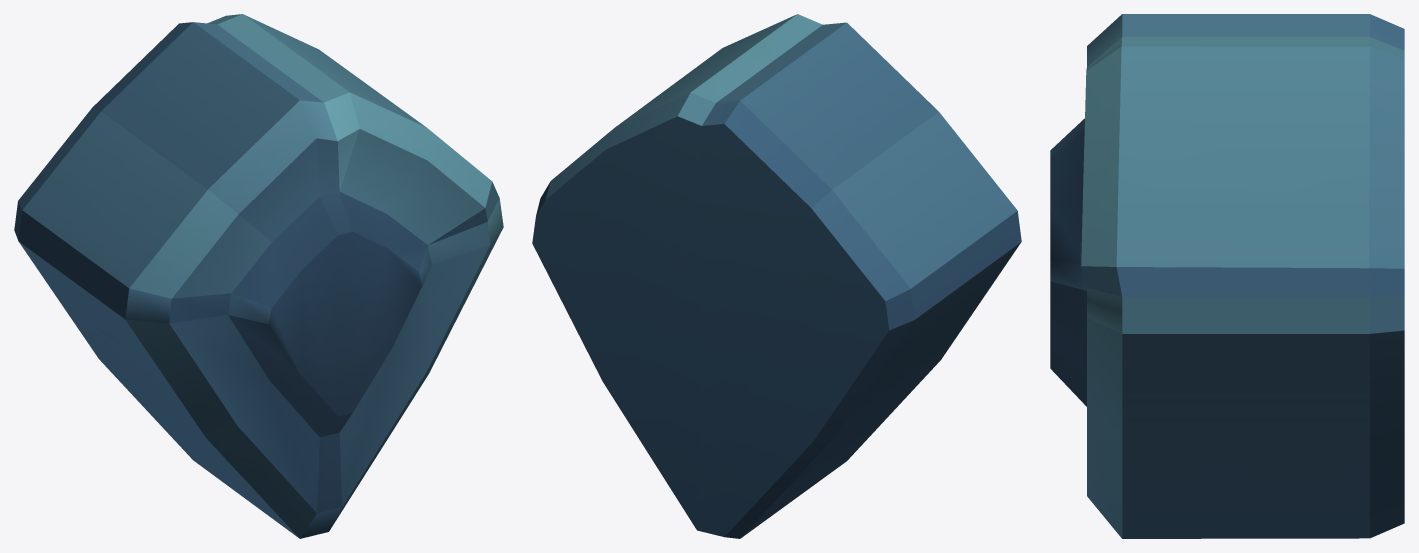
The model's file is ornament_6.fbx.
3 views of the same model, side by side, from view 1: azimuth 30°, elevation 25°; view 2: azimuth 150°, elevation 25°; view 3: azimuth 270°, elevation 25° (orthographic). The views are drawn at different scales.
Parts seen in each view (by area): view 1: ornament_6; view 2: ornament_6; view 3: ornament_6.
Part boxes in pixels (bbox=[...]): ornament_6: bbox=[14, 14, 503, 538]; ornament_6: bbox=[532, 14, 1021, 538]; ornament_6: bbox=[1050, 14, 1404, 538].
Bounding box in the file's own units: 141 × 156 × 98.7.
